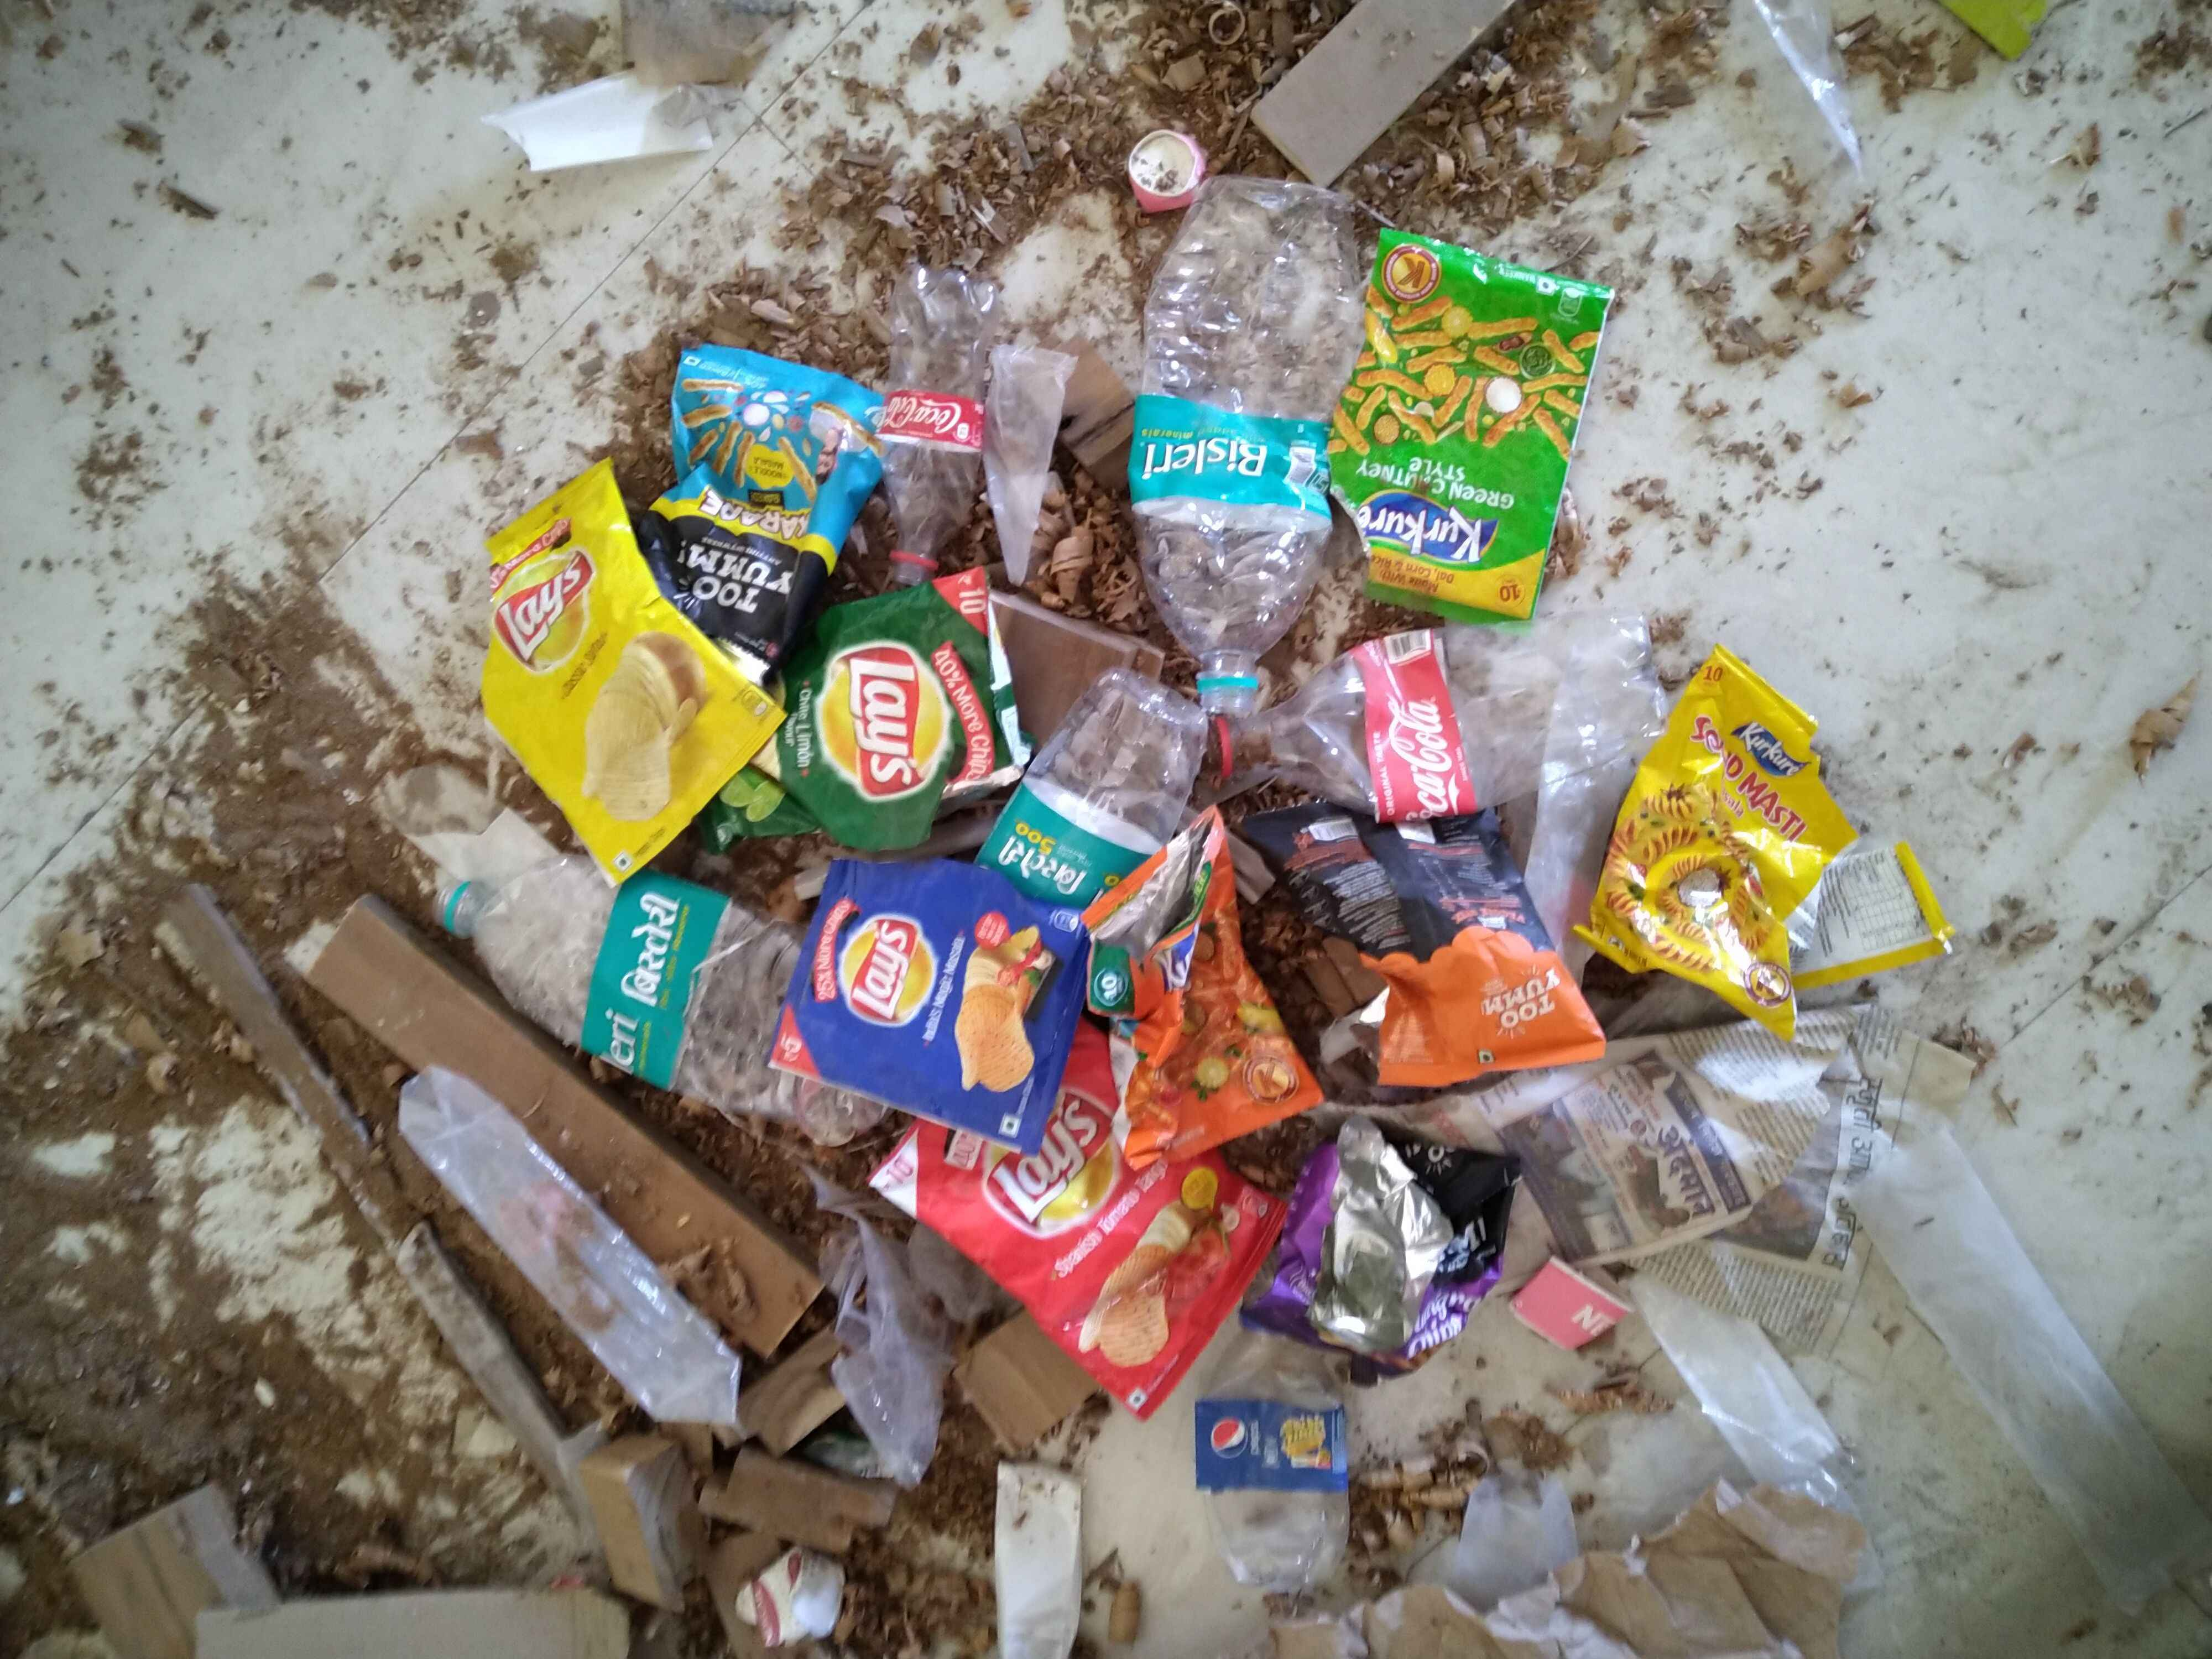Bisleri: (1144, 411, 1324, 519), (597, 889, 705, 1056), (998, 805, 1134, 906)
Coca-Cola: (1372, 673, 1474, 817), (874, 390, 1005, 448)
Lays: (805, 624, 977, 789), (958, 1087, 1130, 1215), (493, 526, 618, 687), (840, 896, 946, 1039)
kurkure: (1355, 474, 1510, 561), (1151, 885, 1221, 999), (1743, 708, 1810, 788)
pepsi: (1183, 1412, 1355, 1493)
tooyumm: (671, 538, 812, 634), (1442, 957, 1587, 1033), (1430, 1192, 1510, 1270)
